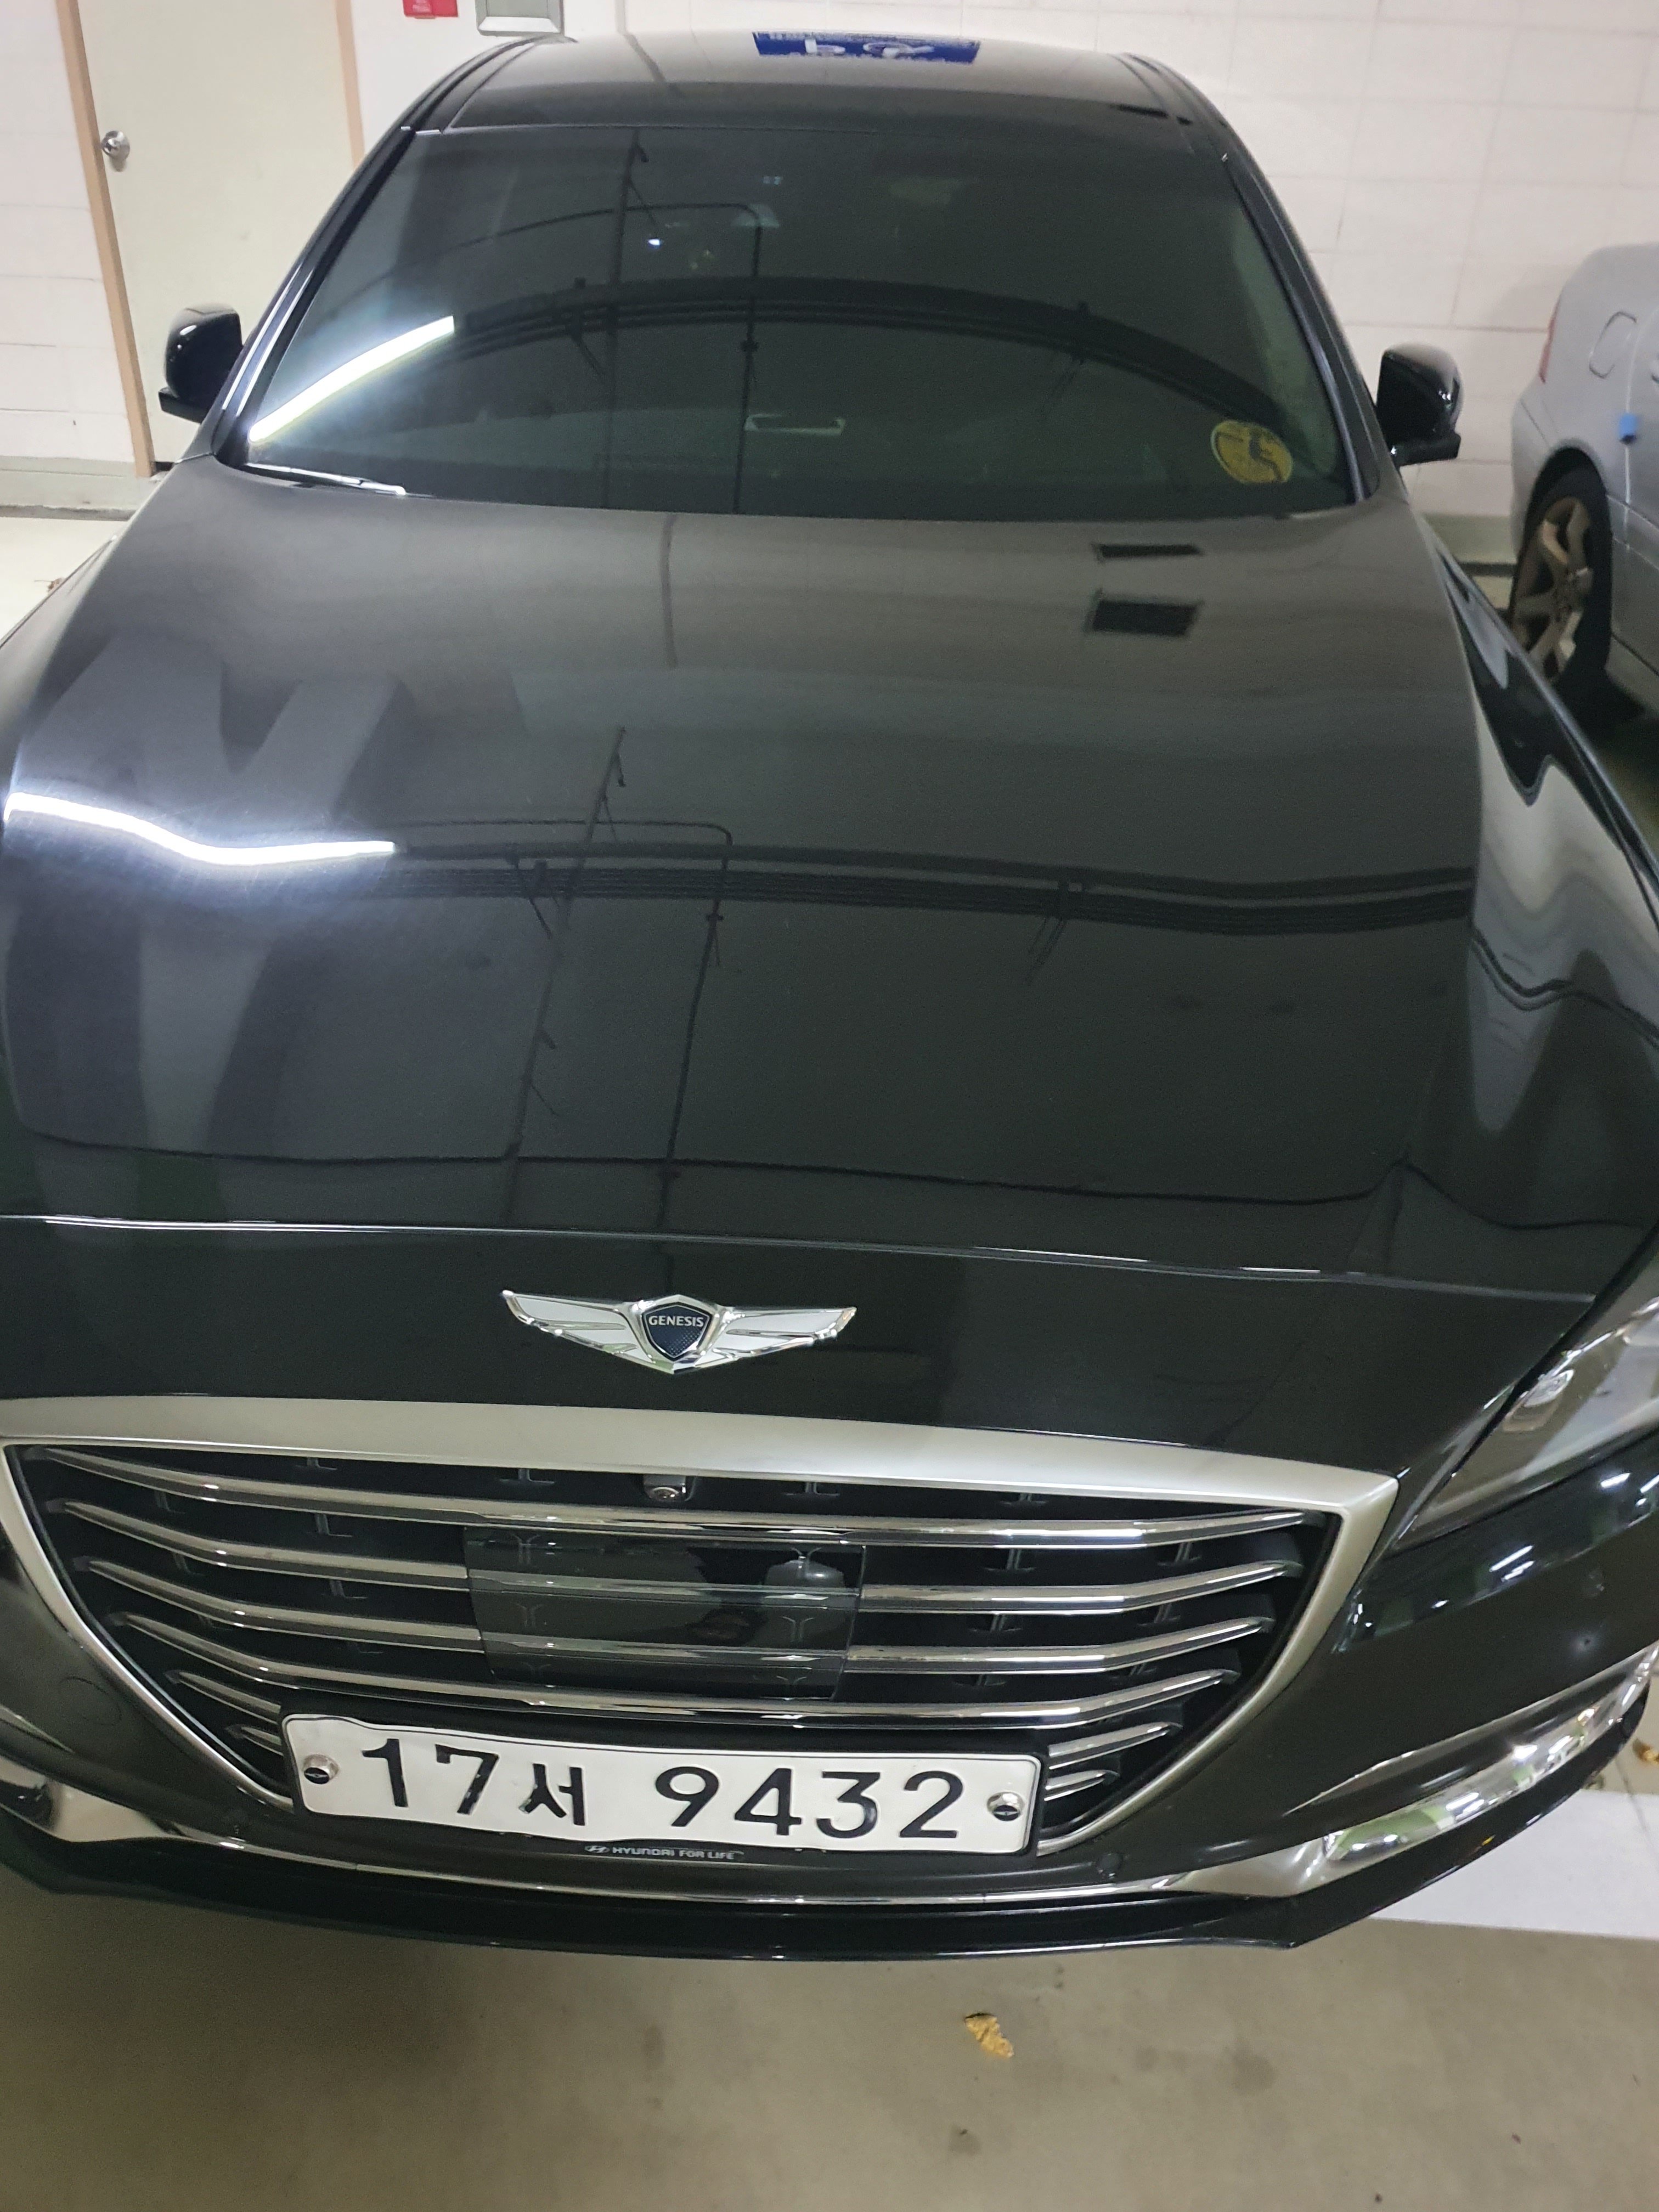disabled_parking: (1204, 411, 1302, 489)
